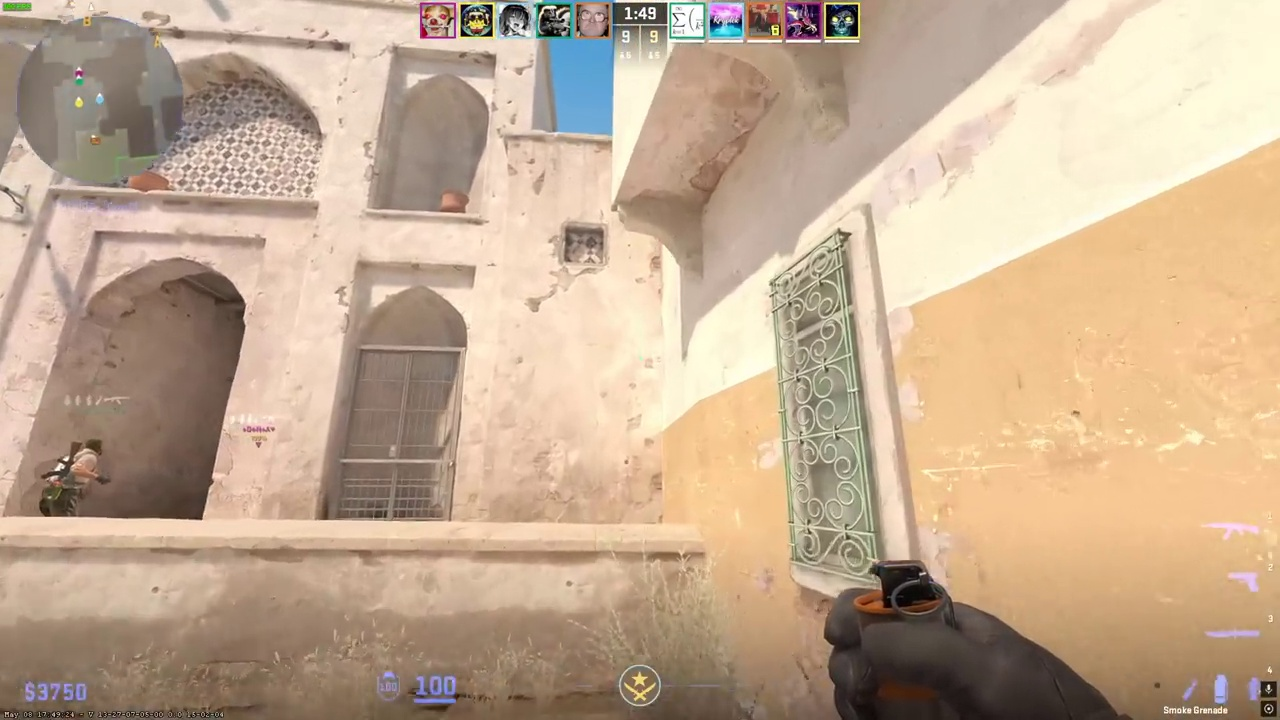Terrorist: (39, 436, 106, 519)
